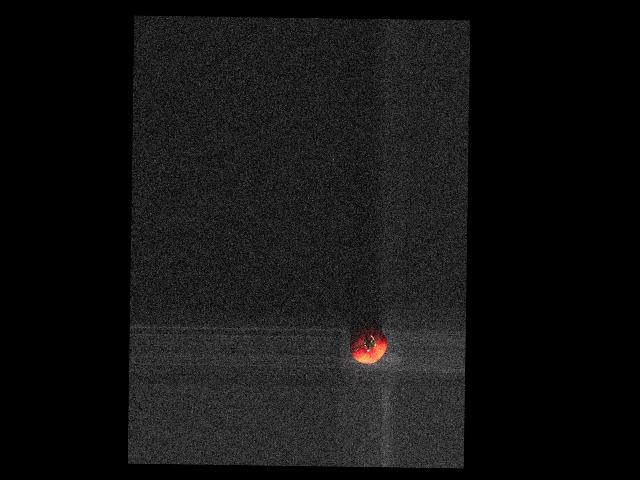tomato: (349, 326, 387, 363)
